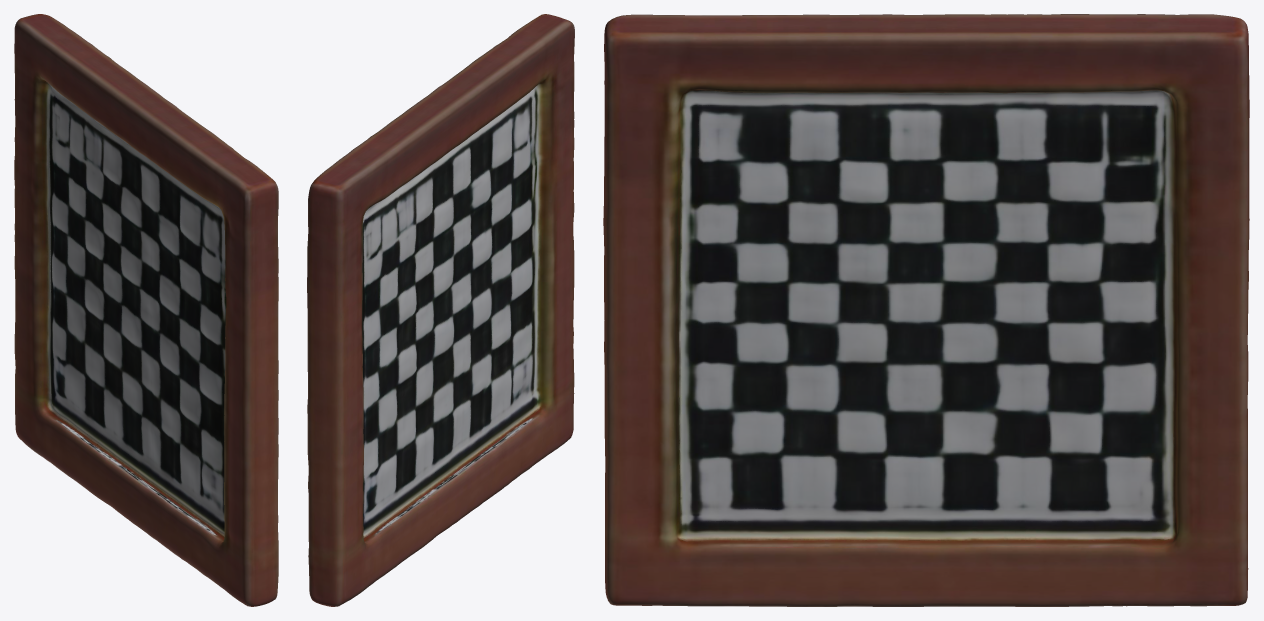
Rendered from 803857c79a3a_chessboard__3d_asse.fbx.
3 views of the same model, side by side, from view 1: azimuth 30°, elevation 25°; view 2: azimuth 150°, elevation 25°; view 3: azimuth 270°, elevation 25° (orthographic). The views are drawn at different scales.
Parts seen in each view (by area): view 1: mesh; view 2: mesh; view 3: mesh.
Boxes of the visible parts, <box> form: mesh: <box>14,14,278,606</box>; mesh: <box>307,14,574,606</box>; mesh: <box>603,14,1249,606</box>.
Size of the model in its own units: 8.89 by 98.29 by 99.98.
